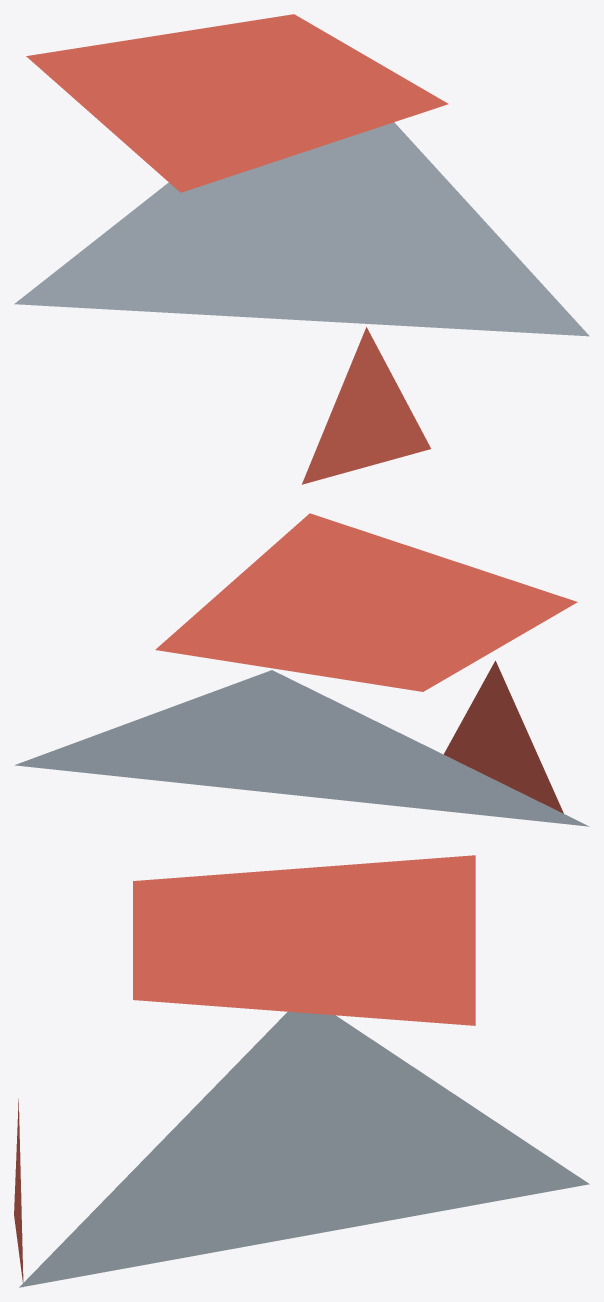
Rendered from SU_GunTurret_LOD2.glb.
3 renders of one model, top to bottom at view 1: azimuth 30°, elevation 25°; view 2: azimuth 150°, elevation 25°; view 3: azimuth 270°, elevation 25°, orthographic. The views are drawn at different scales.
Parts seen in each view (by area): view 1: EntranceGate; view 2: EntranceGate; view 3: EntranceGate.
Part boxes in pixels (box(x1,y1,x2,y2)): EntranceGate: box(14, 14, 589, 484); EntranceGate: box(15, 513, 589, 826); EntranceGate: box(14, 855, 589, 1287).
Bounding box in the file's own units: 400 × 250 × 403.
